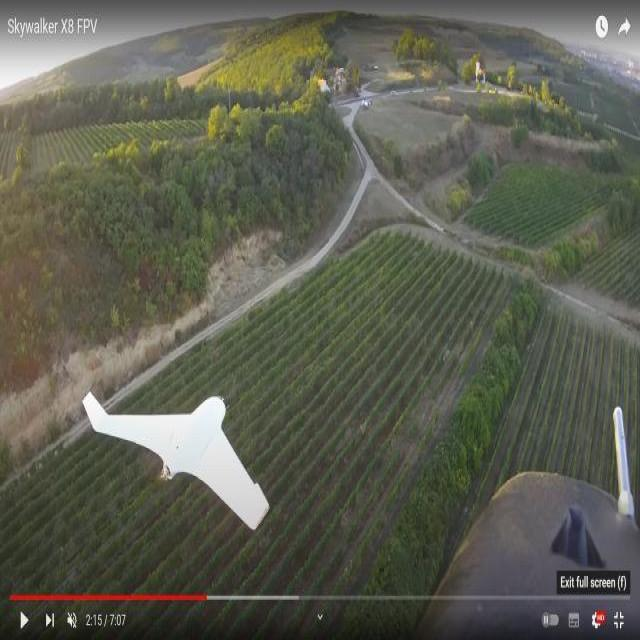iha: (75, 377, 292, 523)
